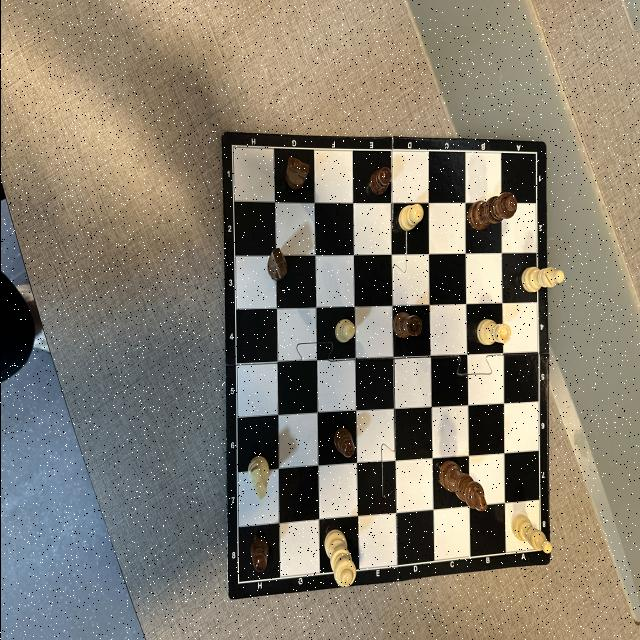Black-King: (438, 461, 486, 511)
Black-Knight: (284, 156, 308, 190), (266, 248, 286, 282)
Black-Pawn: (368, 167, 391, 195), (332, 428, 353, 458), (250, 538, 268, 572)
Black-Queen: (467, 192, 516, 232)
Black-Rook: (392, 312, 421, 338)
White-Bishop: (511, 514, 551, 554), (520, 267, 564, 293)
White-Knight: (246, 456, 268, 500)
White-Pawn: (398, 204, 422, 232), (334, 319, 354, 343)
White-Queen: (324, 530, 356, 587)
White-Rook: (476, 319, 510, 345)
